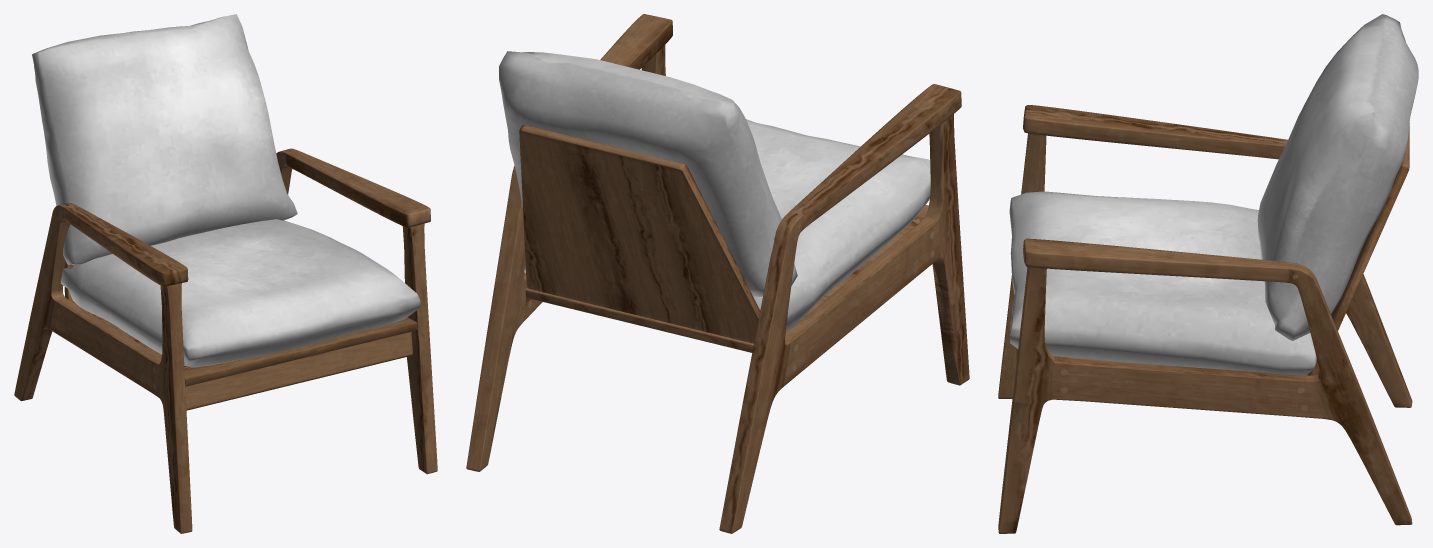
Rendered from chair-m.glb.
3 views of the same model, side by side, from view 1: azimuth 30°, elevation 25°; view 2: azimuth 150°, elevation 25°; view 3: azimuth 270°, elevation 25° (orthographic). The views are drawn at different scales.
Visible parts, largest first — view 1: modern_arm_chair_01; view 2: modern_arm_chair_01; view 3: modern_arm_chair_01.
Part boxes in pixels (bbox=[...]): modern_arm_chair_01: bbox=[14, 14, 437, 533]; modern_arm_chair_01: bbox=[466, 14, 969, 533]; modern_arm_chair_01: bbox=[998, 14, 1418, 533].
Bounding box in the file's own units: 0.8203 × 1.02 × 0.9865.
2 materials, 2 textured.
